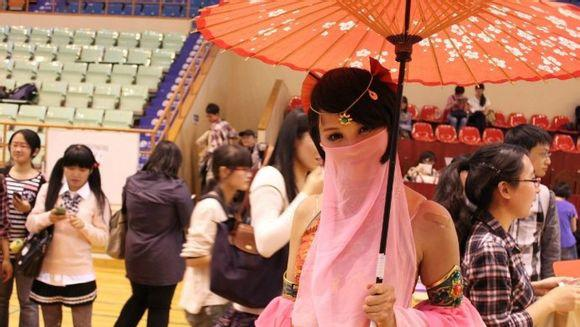NONE: (508, 172, 542, 217), (526, 146, 554, 177), (228, 166, 254, 191), (66, 164, 87, 186), (11, 138, 30, 162)
OK: (323, 115, 386, 177)
